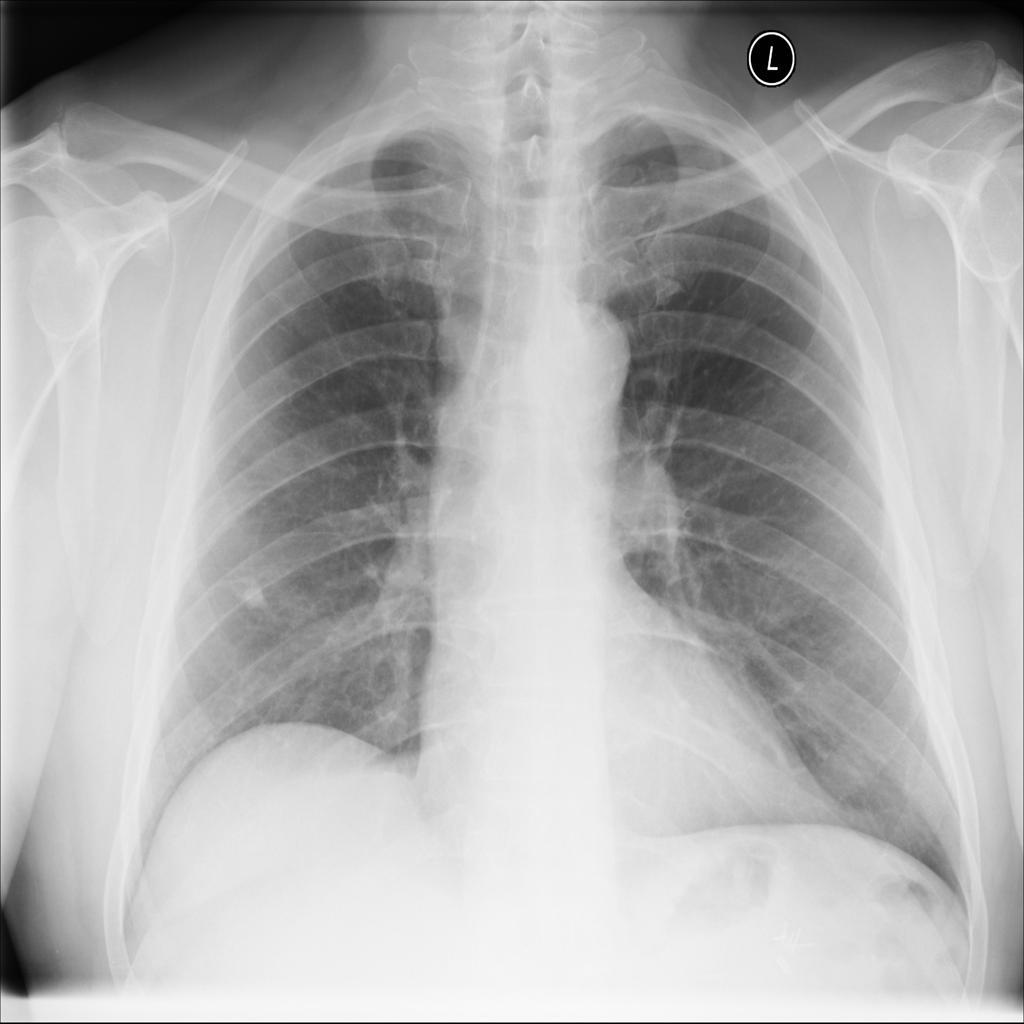nodule: (227, 566, 278, 616)
